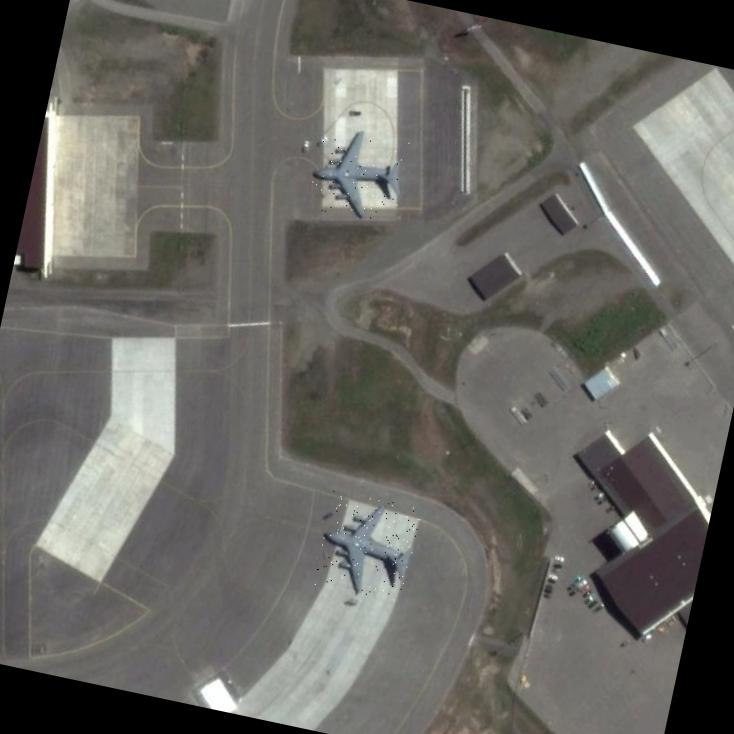A3: (313, 490, 422, 604), (306, 122, 411, 227)
